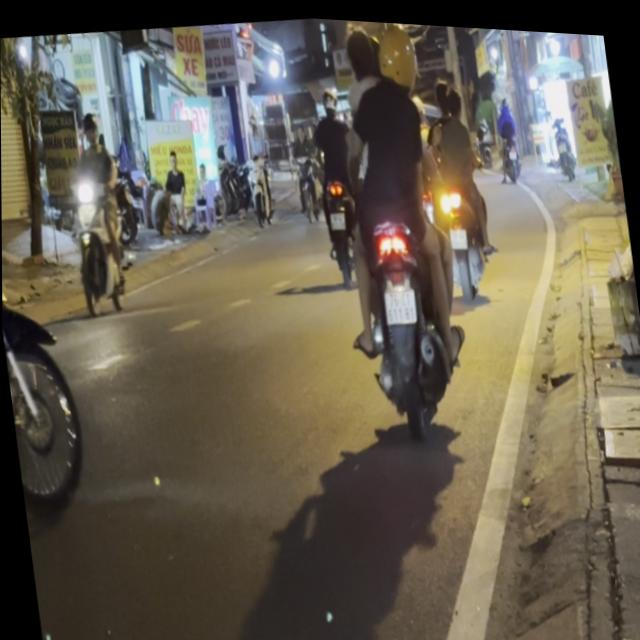helmet: (371, 17, 418, 89), (76, 102, 100, 145)
licenseplate: (309, 14, 474, 437), (0, 63, 95, 524), (51, 98, 135, 318)
motorcyclist: (338, 16, 380, 80)
nohelmet: (381, 279, 415, 319)
